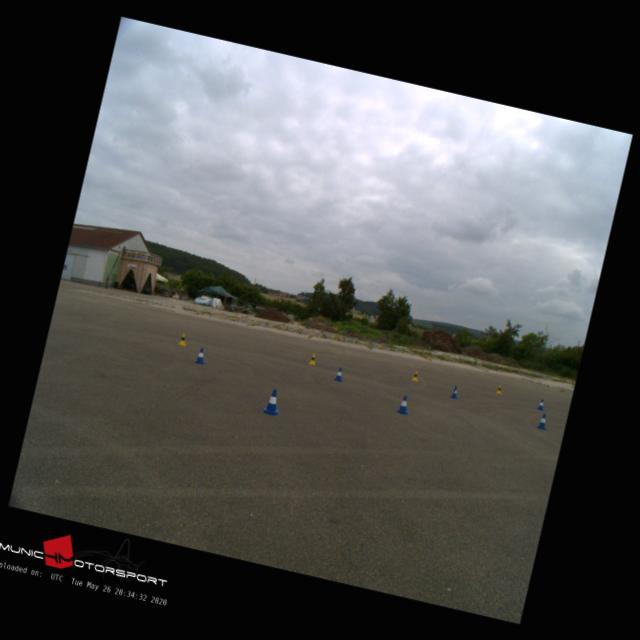blue_cone: (261, 386, 283, 416), (396, 394, 410, 414), (194, 346, 207, 364), (536, 412, 548, 428), (334, 366, 344, 381), (450, 385, 460, 398), (536, 398, 546, 410)
yellow_cone: (178, 331, 188, 345), (308, 352, 316, 365), (411, 370, 419, 380), (496, 384, 502, 394)
